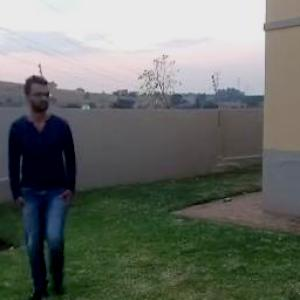follow: (23, 70, 84, 290)
